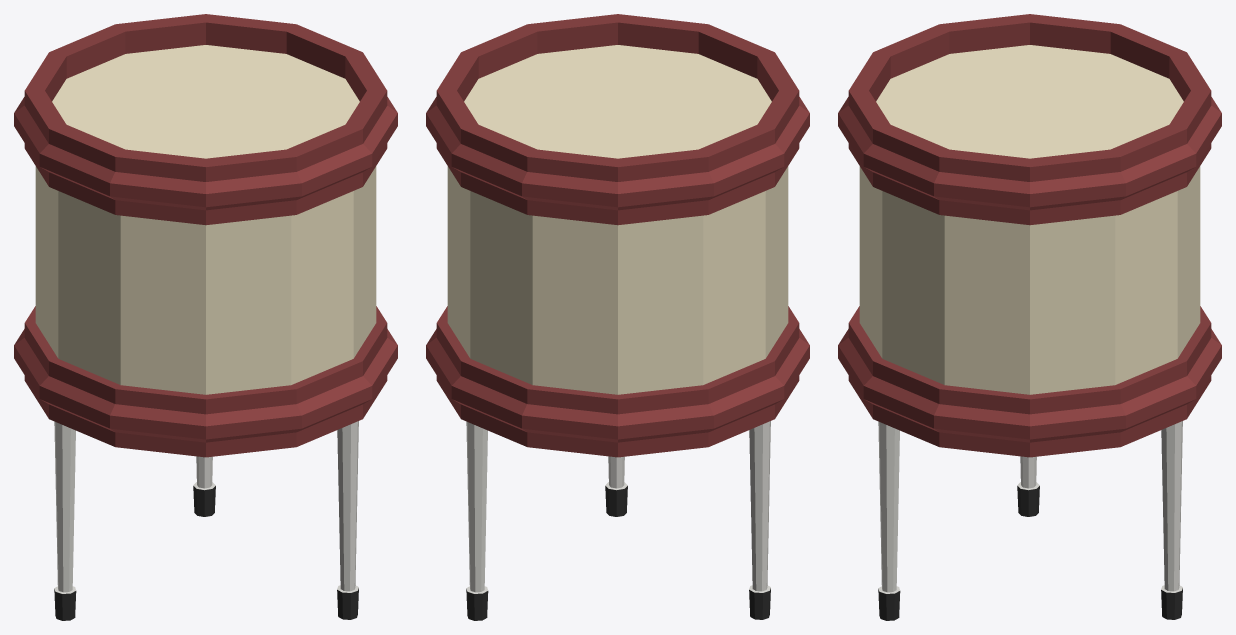
Rendered from drum.fbx.
3 views of the same model, side by side, from view 1: azimuth 30°, elevation 25°; view 2: azimuth 150°, elevation 25°; view 3: azimuth 270°, elevation 25° (orthographic).
Visible parts, largest first — view 1: drum; view 2: drum; view 3: drum.
Boxes of the visible parts, x1=… form: drum: x1=14, y1=14, x2=397, y2=620; drum: x1=426, y1=14, x2=809, y2=620; drum: x1=838, y1=14, x2=1221, y2=620.
Size of the model in its own units: 23.94 by 23.94 by 33.79.
